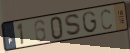0: (50, 15, 64, 41)
1: (15, 22, 26, 47)
6: (33, 19, 47, 42)
C: (100, 8, 113, 31)
G: (81, 10, 99, 34)
S: (64, 13, 84, 37)
